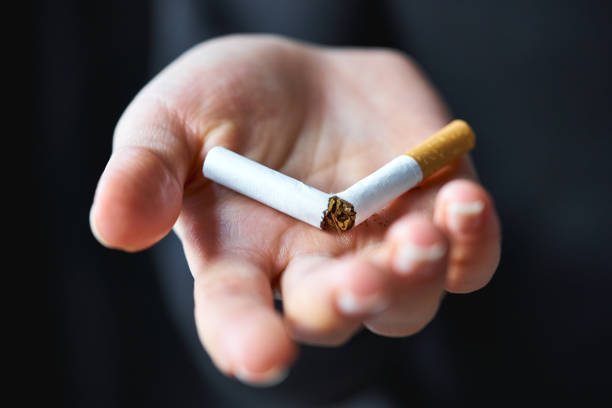cigarette: (327, 119, 476, 233), (201, 144, 338, 231)
